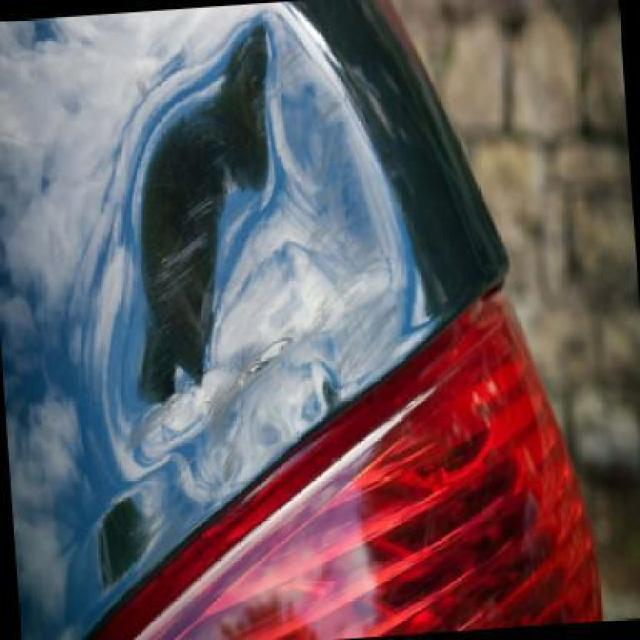dent: (83, 7, 411, 481)
